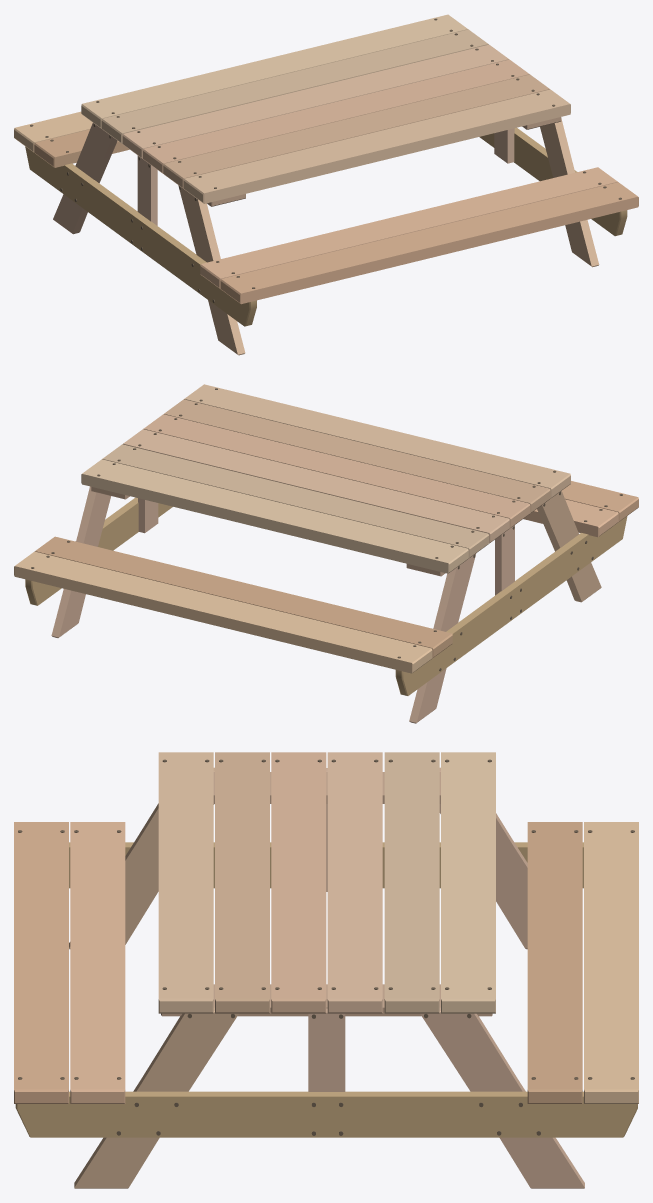
File: Proto_WoodenTable_01.fbx
The picture shows the model from 3 angles, top to bottom: view 1: azimuth 30°, elevation 25°; view 2: azimuth 150°, elevation 25°; view 3: azimuth 270°, elevation 25°; orthographic projection. The views are drawn at different scales.
Parts seen in each view (by area): view 1: polySurface1283; view 2: polySurface1283; view 3: polySurface1283.
Part boxes in pixels (x1,y1,x2,y2): polySurface1283: [14, 14, 638, 355]; polySurface1283: [14, 384, 638, 723]; polySurface1283: [14, 752, 638, 1188].
Size of the model in its own units: 27.75 by 9.27 by 27.27.
